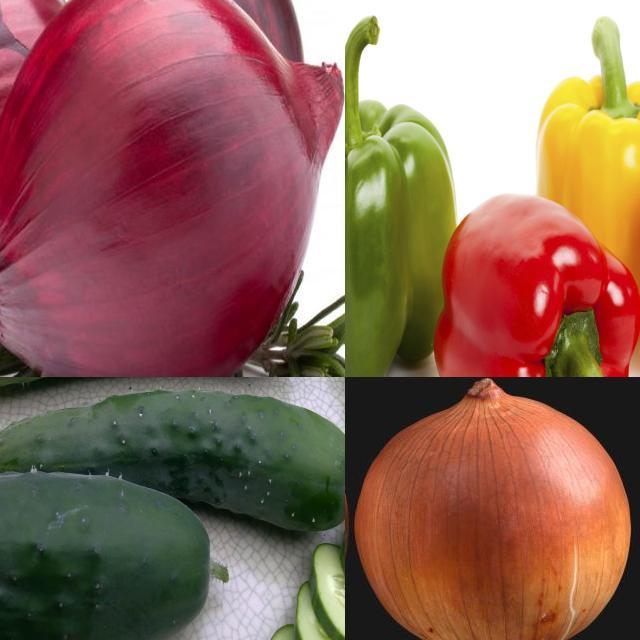bell_pepper: (440, 191, 640, 378), (346, 25, 445, 378), (535, 17, 640, 337)
cucumber: (1, 383, 346, 536), (1, 475, 222, 640)
onion: (1, 1, 346, 378), (359, 378, 635, 640), (40, 1, 307, 265), (1, 1, 73, 359)
